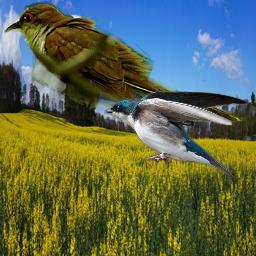Cuckoo: (4, 1, 244, 125)
Swallow: (104, 89, 249, 178)
